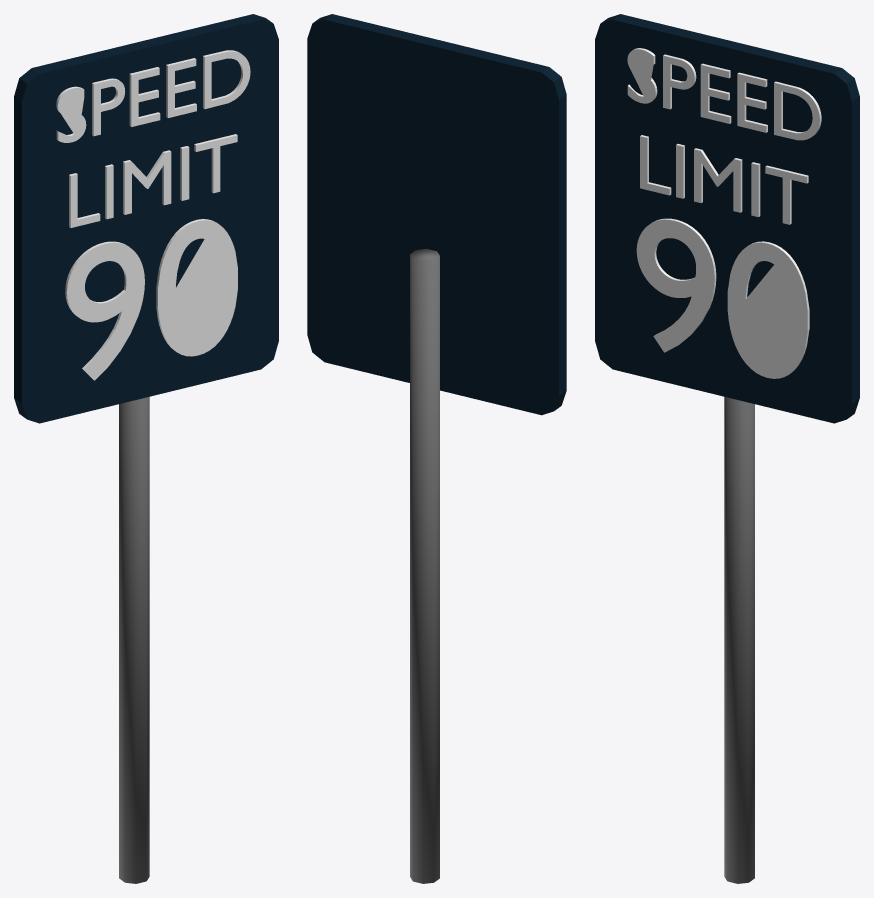
The model's file is Prop_StreetSign_Speed_90.fbx.
3 renders of one model, left to right at view 1: azimuth 30°, elevation 25°; view 2: azimuth 150°, elevation 25°; view 3: azimuth 330°, elevation 25°, orthographic. The views are drawn at different scales.
Visible parts, largest first — view 1: Prop_StreetSign_Speed_90; view 2: Prop_StreetSign_Speed_90; view 3: Prop_StreetSign_Speed_90.
Boxes of the visible parts, box(x1,y1,x2,y2) form: Prop_StreetSign_Speed_90: box(14, 14, 278, 883); Prop_StreetSign_Speed_90: box(307, 14, 566, 883); Prop_StreetSign_Speed_90: box(595, 14, 859, 883).
Bounding box in the file's own units: 140 × 438 × 23.65.
